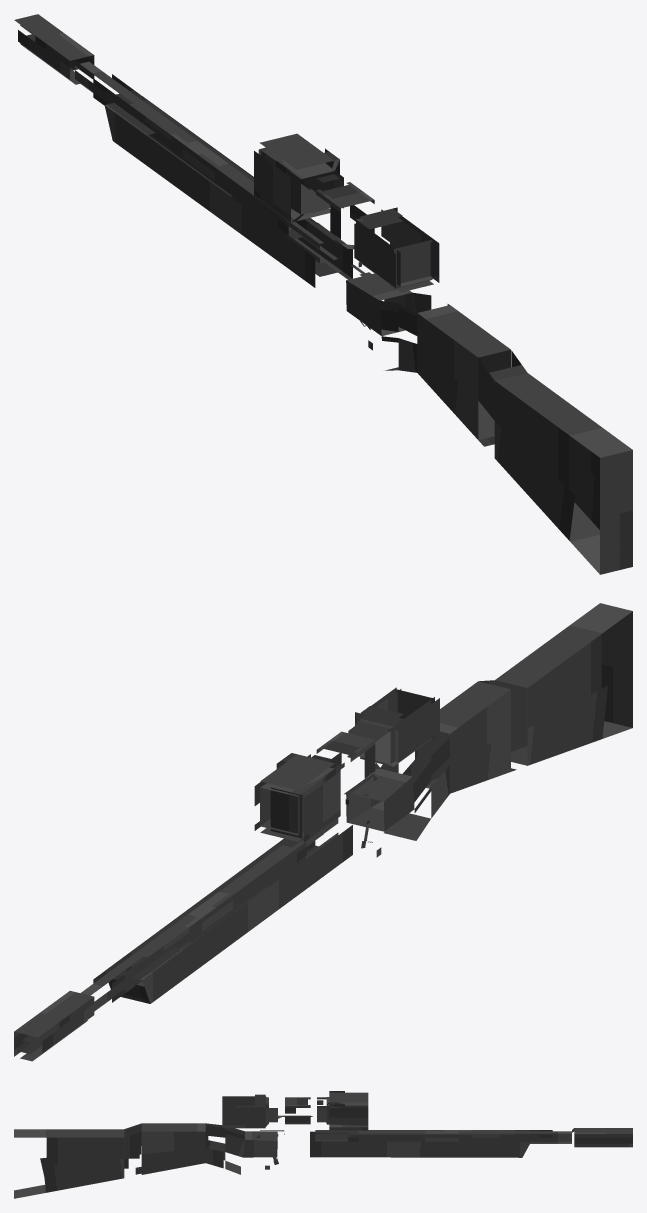
File: AWP.obj
3 renders of one model, top to bottom at view 1: azimuth 30°, elevation 25°; view 2: azimuth 150°, elevation 25°; view 3: azimuth 270°, elevation 25°, orthographic. The views are drawn at different scales.
Visible parts, largest first — view 1: Sniper.001_Cube.001; view 2: Sniper.001_Cube.001; view 3: Sniper.001_Cube.001.
Boxes of the visible parts, bbox=[...] form: Sniper.001_Cube.001: bbox=[14, 14, 632, 574]; Sniper.001_Cube.001: bbox=[14, 603, 632, 1061]; Sniper.001_Cube.001: bbox=[14, 1091, 632, 1198].
Size of the model in its own units: 0.996 by 3.6 by 20.79.
